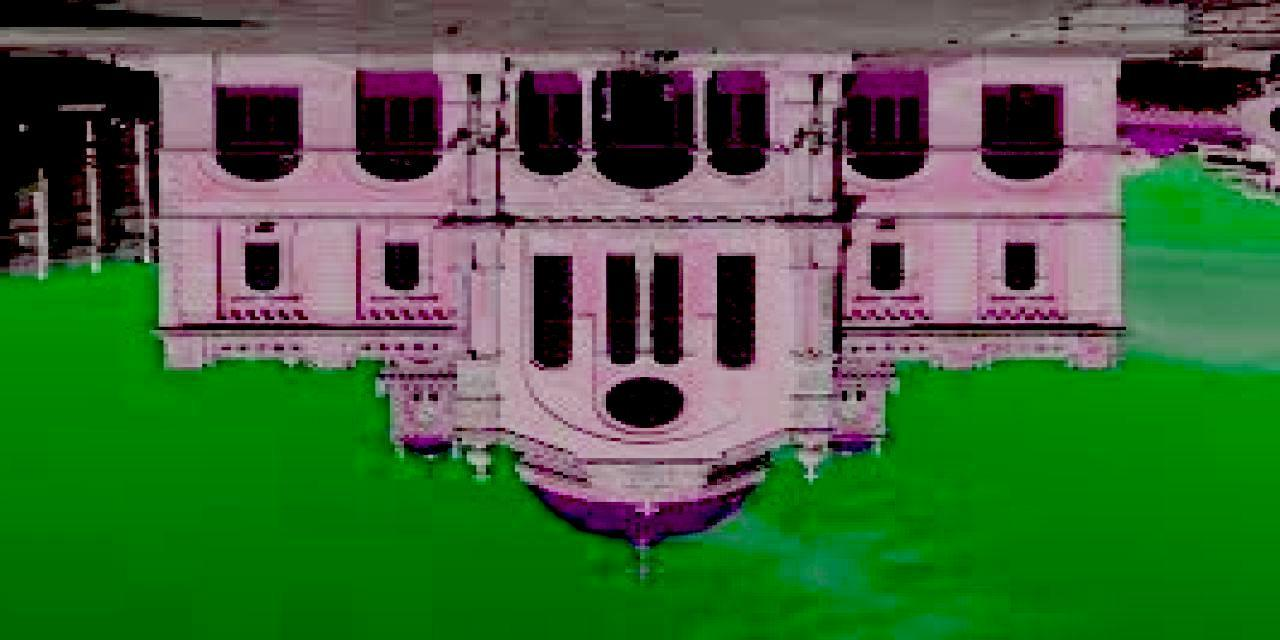Agios Minas: (149, 53, 1128, 586)
